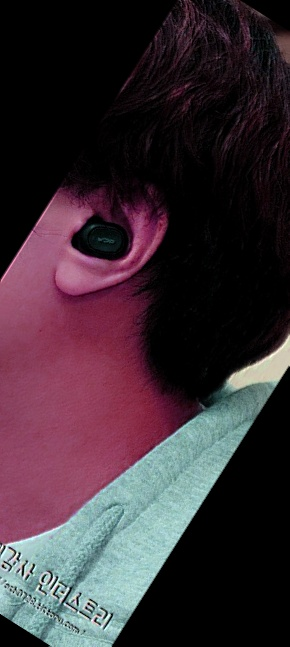earphone: (31, 156, 185, 324)
